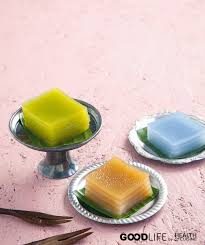kanomchan: (79, 154, 161, 223), (15, 86, 96, 151), (145, 104, 205, 160)
